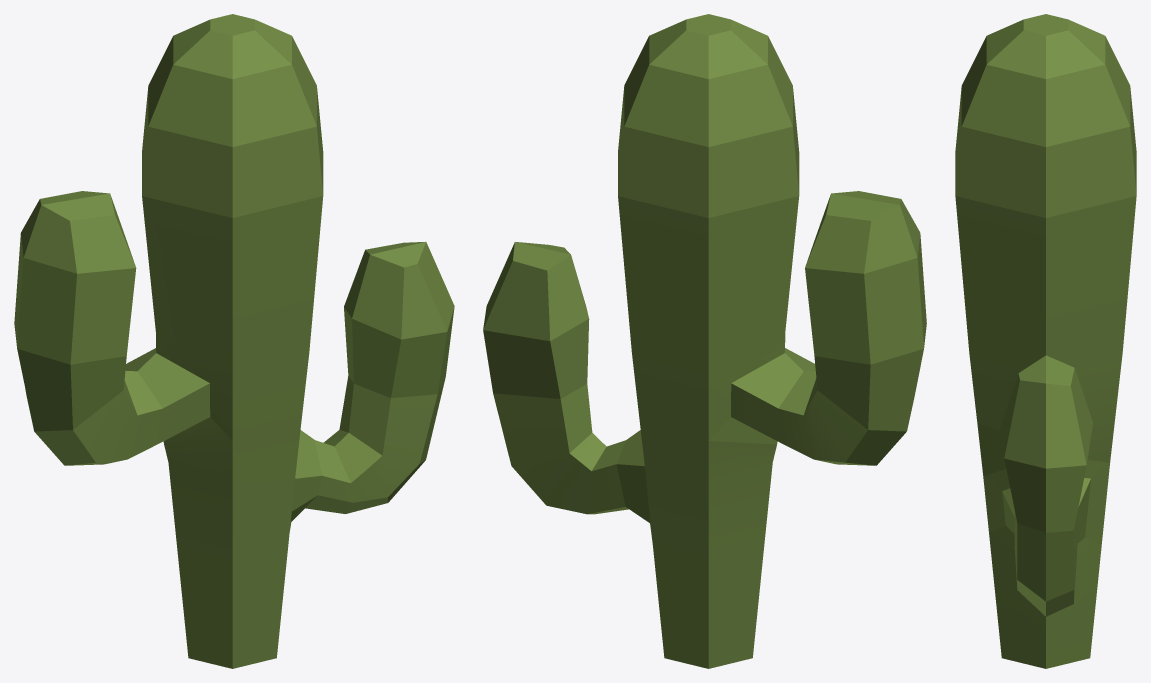
The model's file is cactus_1.fbx.
The picture shows the model from 3 angles, left to right: view 1: azimuth 30°, elevation 25°; view 2: azimuth 150°, elevation 25°; view 3: azimuth 270°, elevation 25°; orthographic projection.
Visible parts, largest first — view 1: cactus_1; view 2: cactus_1; view 3: cactus_1.
Part boxes in pixels (bbox=[...]): cactus_1: bbox=[14, 14, 454, 668]; cactus_1: bbox=[483, 14, 926, 668]; cactus_1: bbox=[955, 14, 1136, 668].
Size of the model in its own units: 96.96 by 132 by 34.79.
